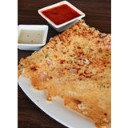dosa: (20, 18, 108, 127)
